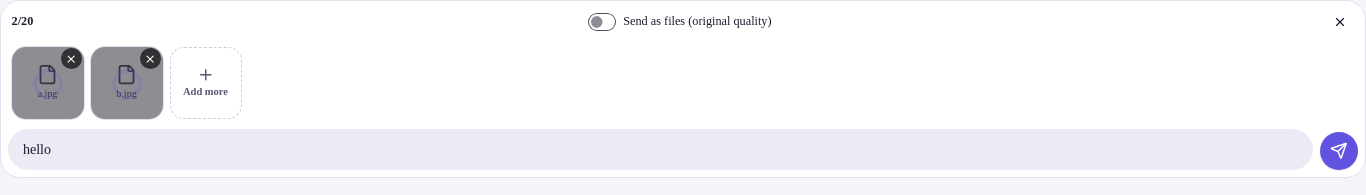
Test: media tray › removing a tile cancels its upload
Click the button named "Remove a.jpg" at (71, 59), box [61,48,82,69]
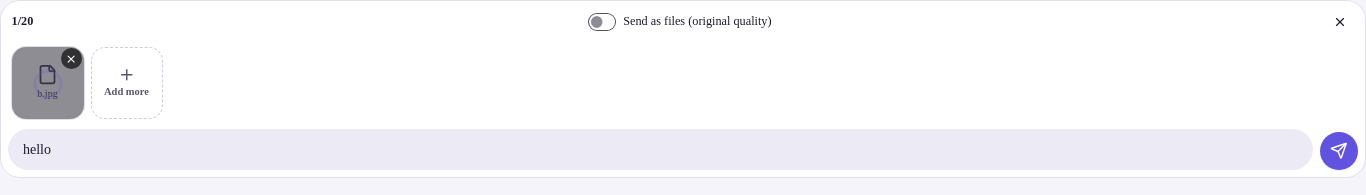
Now the text "1/20" is shown, box [12,14,33,28]
